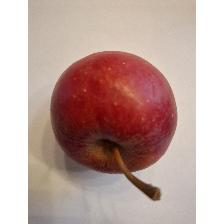Apfel: (46, 46, 178, 202)
